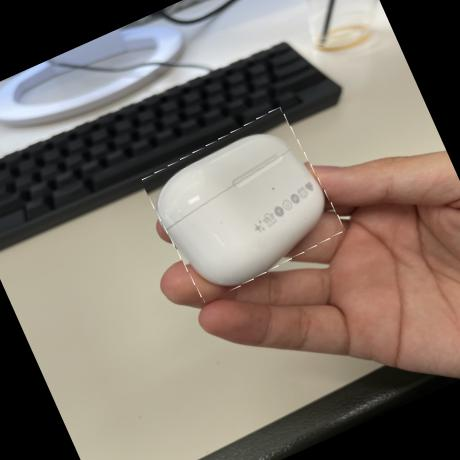airpod3: (138, 105, 345, 304)
